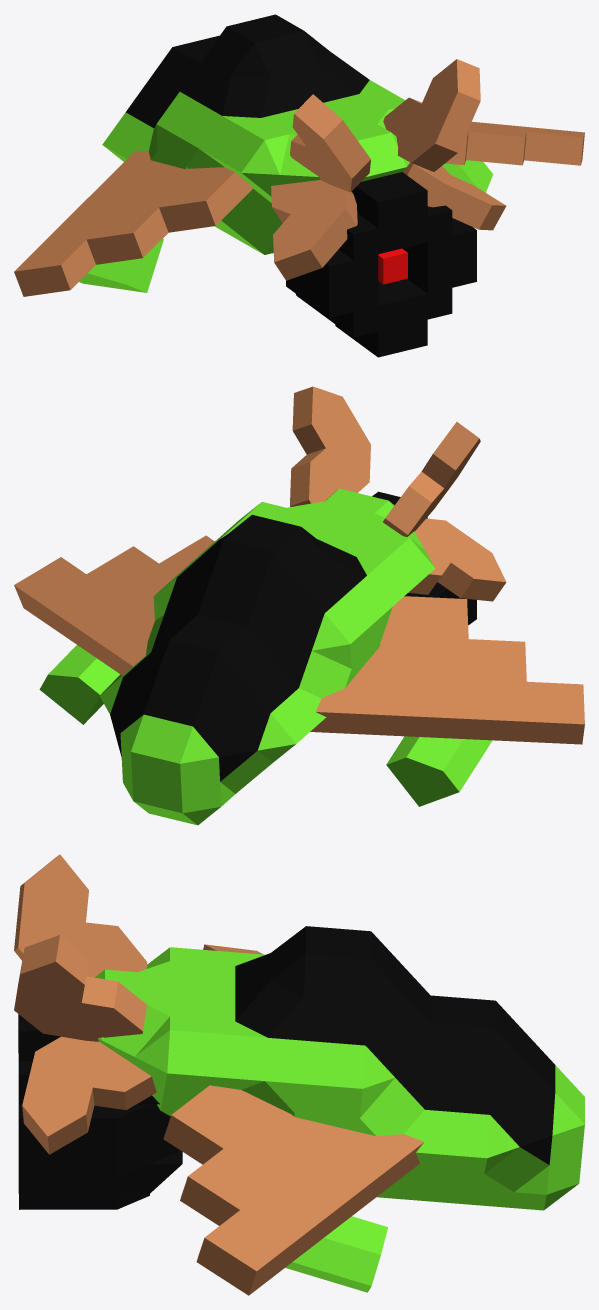
Rendered from little-prince-spaceship-with-engine.FBX.
3 views of the same model, one above another, from view 1: azimuth 30°, elevation 25°; view 2: azimuth 150°, elevation 25°; view 3: azimuth 270°, elevation 25° (orthographic). The views are drawn at different scales.
Parts seen in each view (by area): view 1: Box038, Box020, Box021, Group004, Box039, Box040, Box041, Box023, Box027, Box022, Group003, Box024; view 2: Group004, Box020, Box021, Box023, Box039, Box040, Box022, Box041, Box024, Box038; view 3: Box020, Group004, Box023, Box038, Box027, Box039, Box041, Box024.
Boxes of the visible parts, x1=… form: Box038: x1=286, y1=172, x2=476, y2=357; Box020: x1=102, y1=80, x2=409, y2=254; Box021: x1=14, y1=151, x2=253, y2=296; Group004: x1=126, y1=14, x2=369, y2=128; Box039: x1=383, y1=59, x2=480, y2=171; Box040: x1=271, y1=180, x2=357, y2=280; Box041: x1=290, y1=94, x2=370, y2=192; Box023: x1=445, y1=121, x2=584, y2=165; Box027: x1=403, y1=162, x2=506, y2=230; Box022: x1=79, y1=239, x2=163, y2=292; Group003: x1=378, y1=248, x2=407, y2=284; Box024: x1=442, y1=160, x2=493, y2=192; Group004: x1=110, y1=514, x2=366, y2=781; Box020: x1=99, y1=488, x2=435, y2=825; Box021: x1=310, y1=596, x2=584, y2=744; Box023: x1=14, y1=535, x2=214, y2=675; Box039: x1=290, y1=386, x2=370, y2=506; Box040: x1=408, y1=518, x2=506, y2=601; Box022: x1=386, y1=736, x2=492, y2=806; Box041: x1=383, y1=422, x2=480, y2=536; Box024: x1=39, y1=645, x2=121, y2=724; Box038: x1=372, y1=491, x2=476, y2=624; Box020: x1=95, y1=947, x2=584, y2=1210; Group004: x1=235, y1=926, x2=555, y2=1164; Box023: x1=163, y1=1085, x2=423, y2=1295; Box038: x1=18, y1=1014, x2=182, y2=1209; Box027: x1=22, y1=1036, x2=156, y2=1154; Box039: x1=14, y1=935, x2=147, y2=1041; Box041: x1=14, y1=854, x2=147, y2=977; Box024: x1=285, y1=1216, x2=387, y2=1292.
Size of the model in its own units: 137 by 60.58 by 103.
